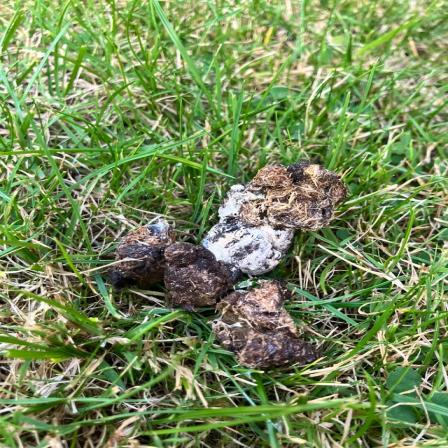dog-poop: (103, 160, 344, 370)
